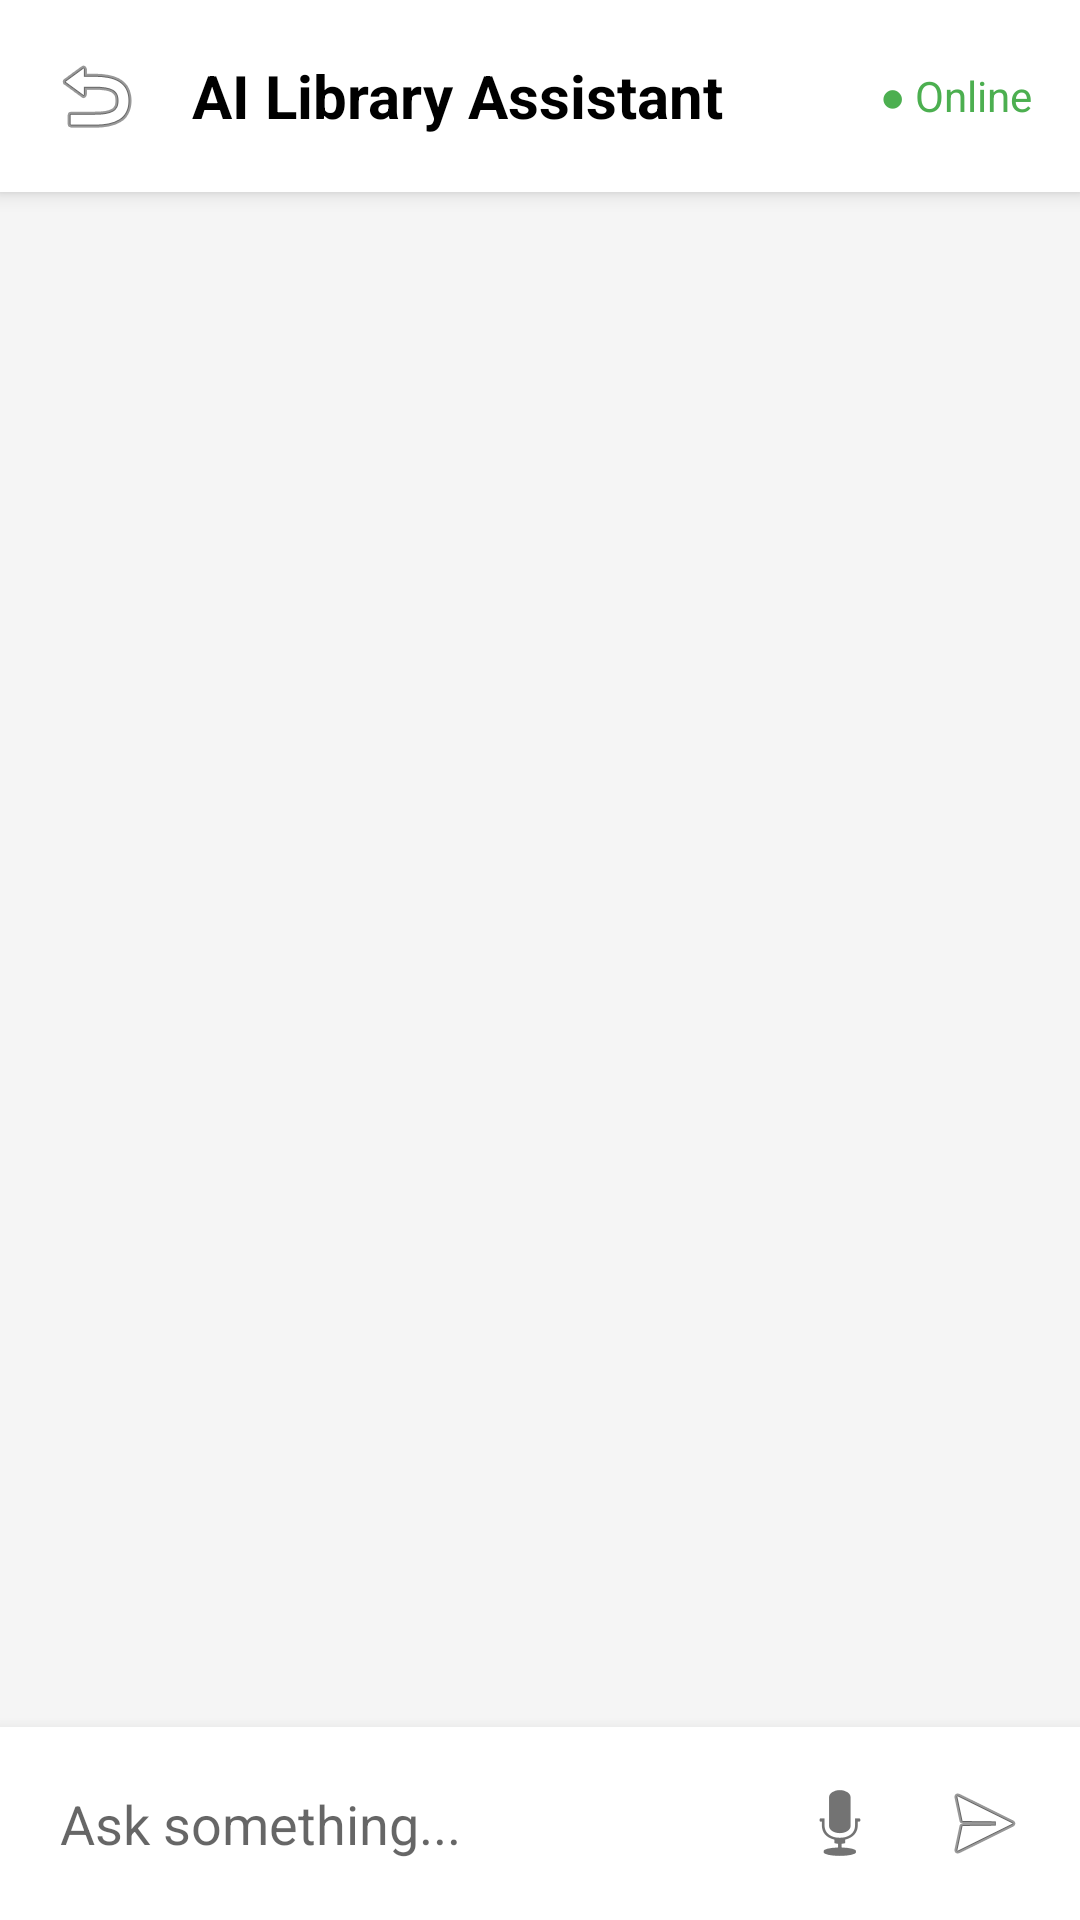

Locate icon controls on the screen. Image size 1080w x 1920h, boxes as (x1, y1, x2, y2).
revert: (63, 65, 132, 128)
send: (954, 1793, 1016, 1854)
speak now: (819, 1790, 861, 1856)
